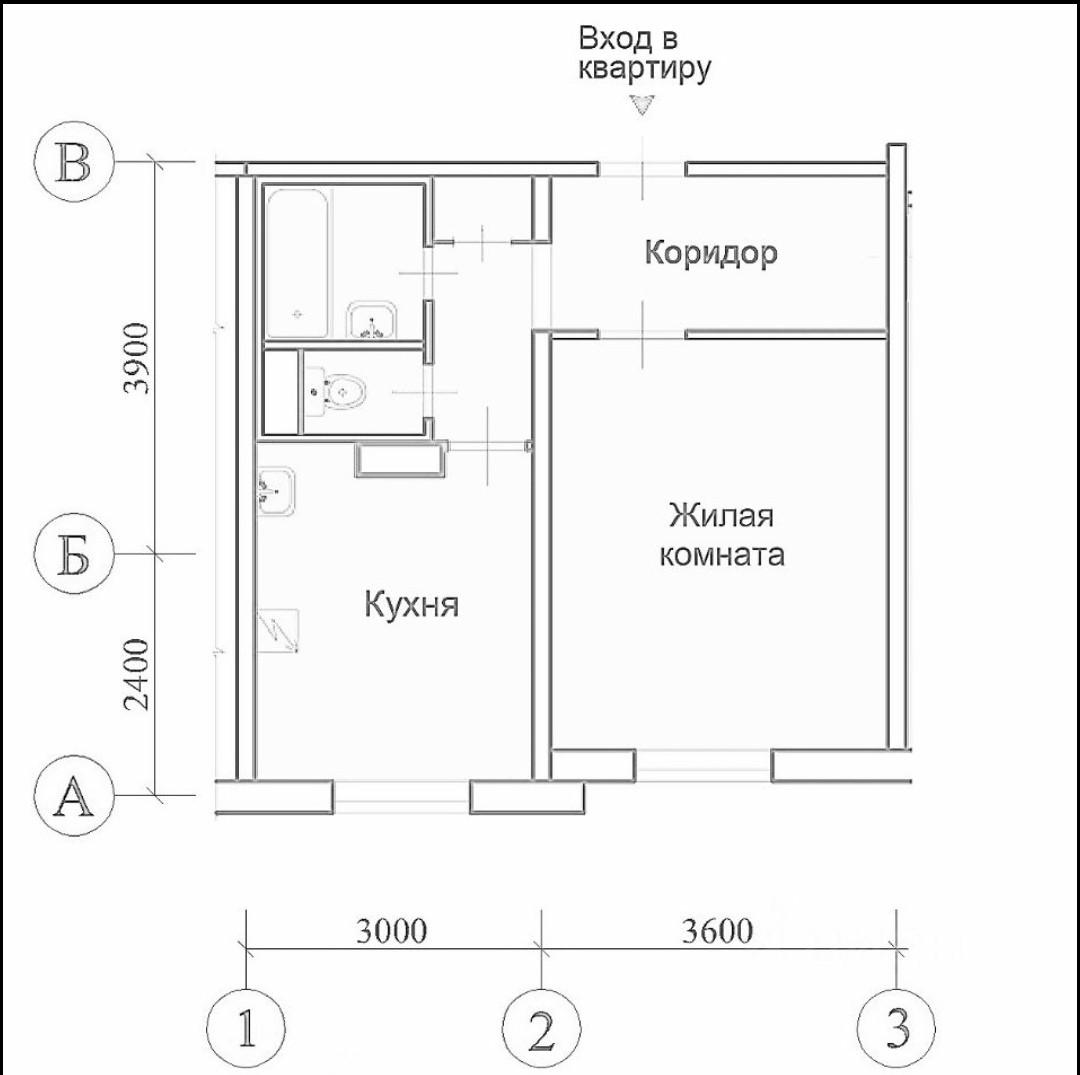bathroom: (261, 184, 426, 341)
bedroom: (549, 339, 889, 751)
hallway: (433, 174, 890, 440)
kitchen: (256, 443, 533, 780)
toilet: (261, 351, 424, 437)
walk_in_closet: (436, 174, 534, 240)
